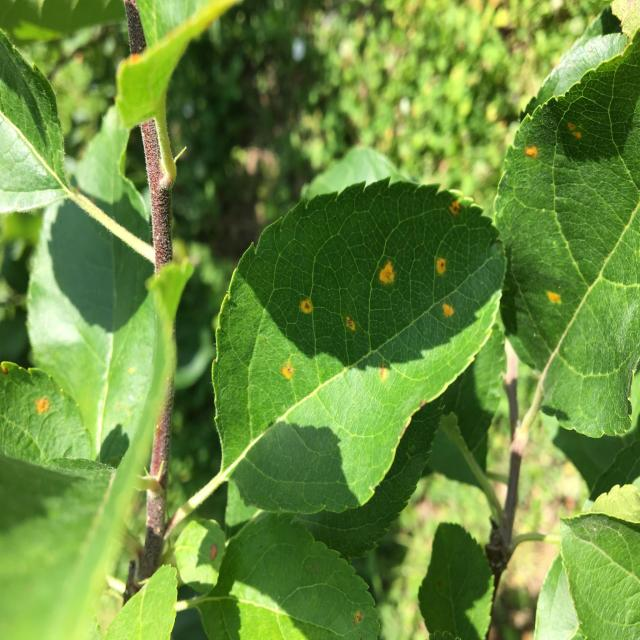Rust: (565, 108, 585, 157), (26, 391, 57, 418), (295, 291, 321, 322), (338, 302, 358, 338), (543, 286, 564, 317), (208, 534, 226, 570), (376, 262, 399, 290), (277, 352, 296, 385), (432, 254, 453, 282), (276, 359, 297, 386), (524, 130, 540, 164), (446, 192, 464, 220), (351, 602, 366, 633), (374, 361, 391, 388), (439, 299, 455, 323)
